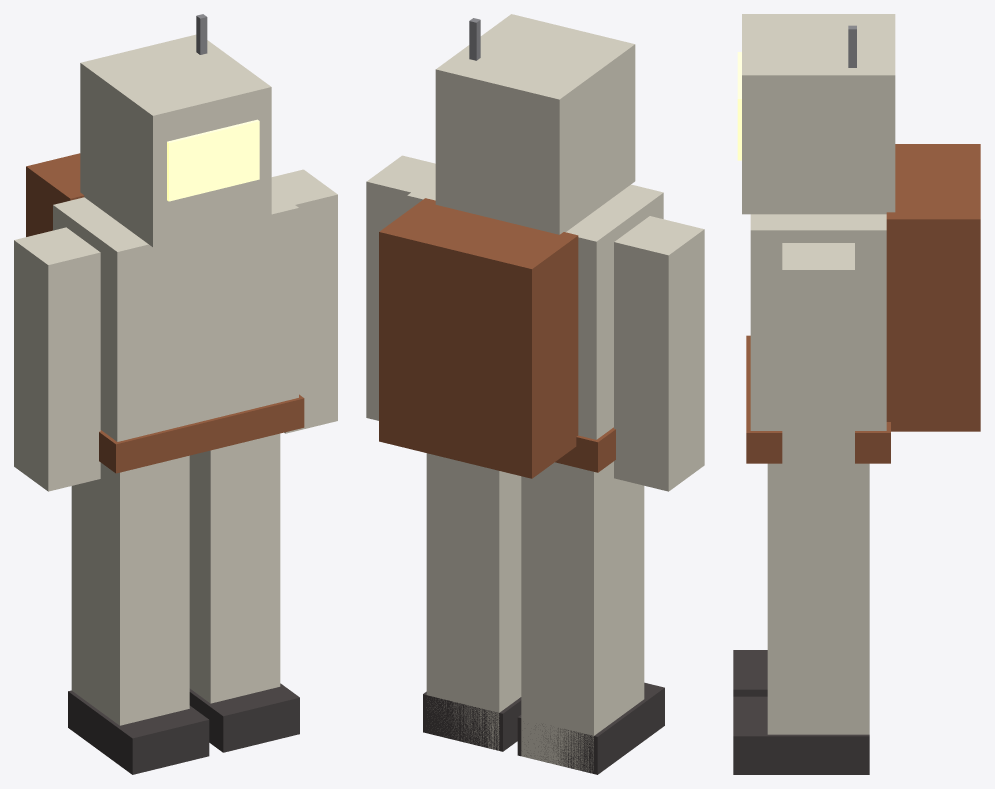
File: player.fbx
3 renders of one model, left to right at view 1: azimuth 30°, elevation 25°; view 2: azimuth 150°, elevation 25°; view 3: azimuth 270°, elevation 25°, orthographic. The views are drawn at different scales.
Parts seen in each view (by area): view 1: player; view 2: player; view 3: player.
Part boxes in pixels (bbox=[...]): player: bbox=[14, 14, 337, 774]; player: bbox=[366, 14, 704, 774]; player: bbox=[733, 14, 980, 774].
Size of the model in its own units: 0.83 by 1.88 by 0.58.
